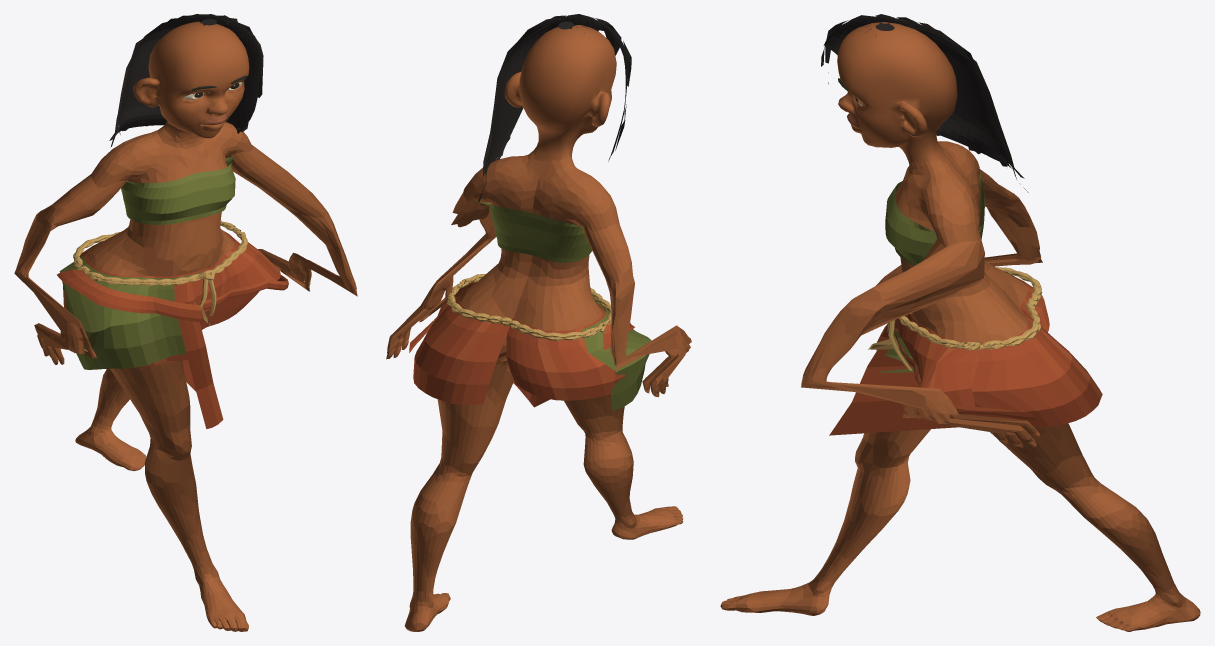
File: mulher_02.glb
3 views of the same model, side by side, from view 1: azimuth 30°, elevation 25°; view 2: azimuth 150°, elevation 25°; view 3: azimuth 270°, elevation 25° (orthographic). The views are drawn at different scales.
Parts seen in each view (by area): view 1: mulher_02_corpo; view 2: mulher_02_corpo; view 3: mulher_02_corpo.
Part boxes in pixels (left/top/right/bottom): mulher_02_corpo: left=14, top=14, right=357, bottom=631; mulher_02_corpo: left=386, top=14, right=691, bottom=631; mulher_02_corpo: left=720, top=14, right=1200, bottom=631.
Size of the model in its own units: 0.7224 by 1.49 by 1.07.
